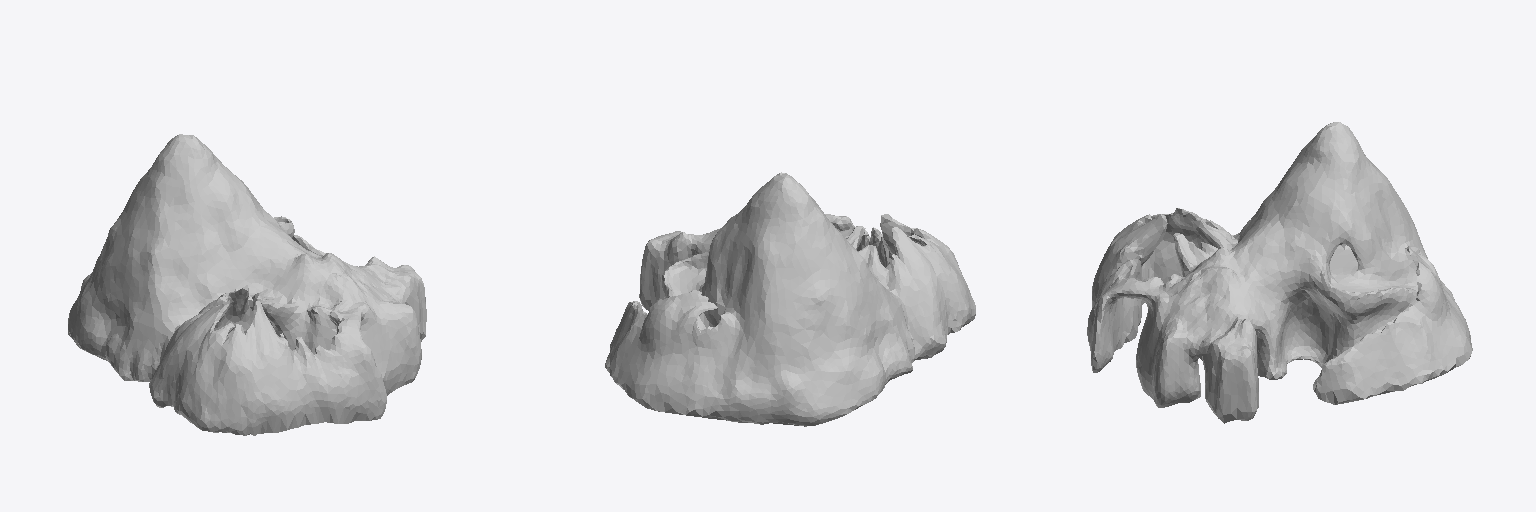
File: umt.obj
3 renders of one model, left to right at view 1: azimuth 30°, elevation 25°; view 2: azimuth 150°, elevation 25°; view 3: azimuth 270°, elevation 25°, orthographic.
Visible parts, largest first — view 1: rmt; view 2: rmt; view 3: rmt.
Boxes of the visible parts, x1,y1,x2,y2 form: rmt: [68, 134, 426, 435]; rmt: [605, 172, 975, 426]; rmt: [1087, 122, 1472, 423].
Size of the model in its own units: 206 by 153 by 241.